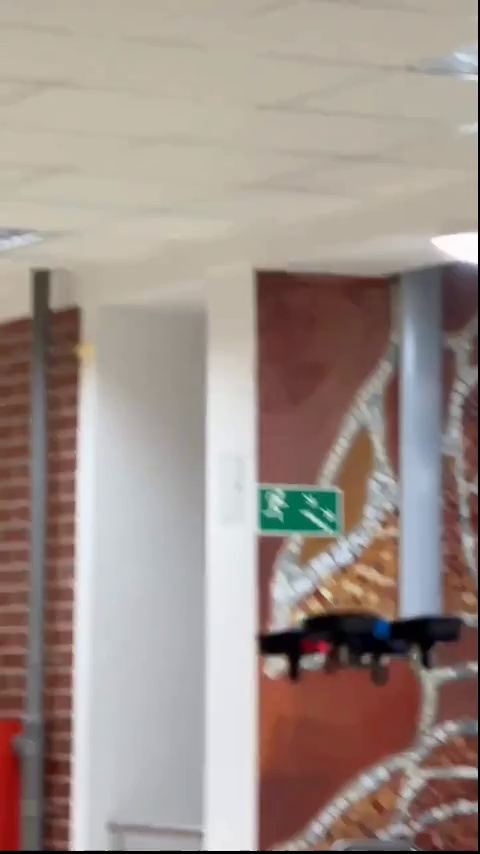drone: (254, 607, 462, 683)
